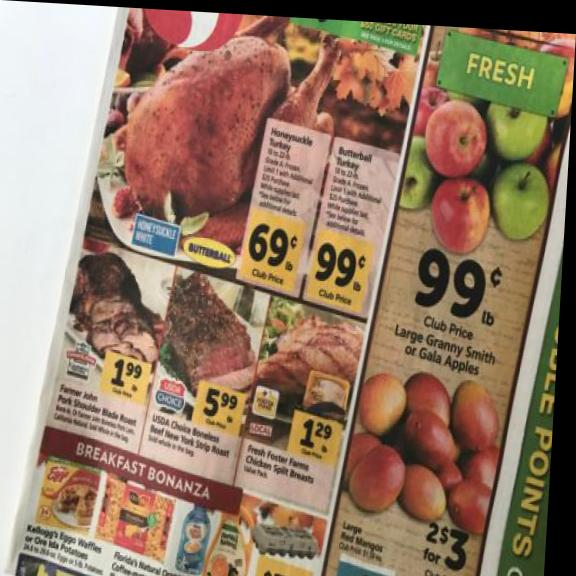Kertas: (11, 3, 576, 576)
